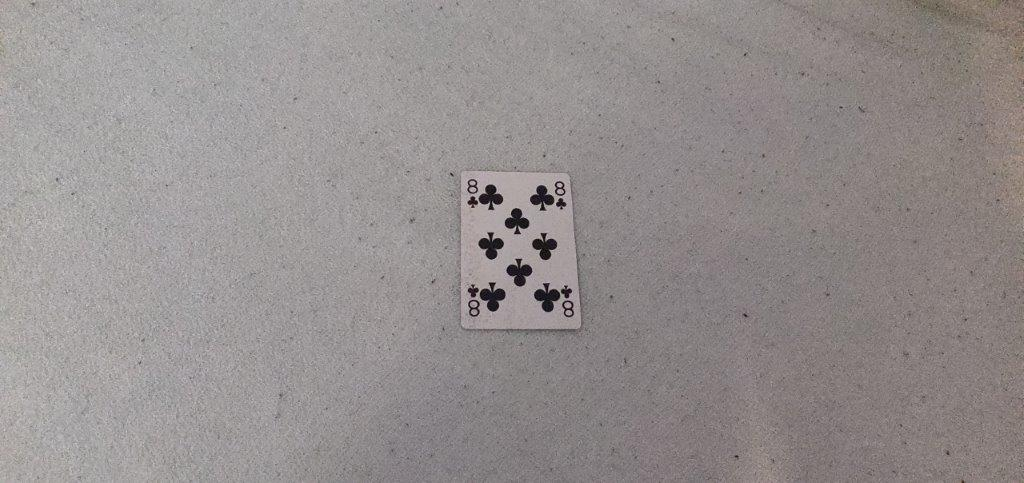8C: (463, 174, 480, 209), (553, 178, 569, 215)
